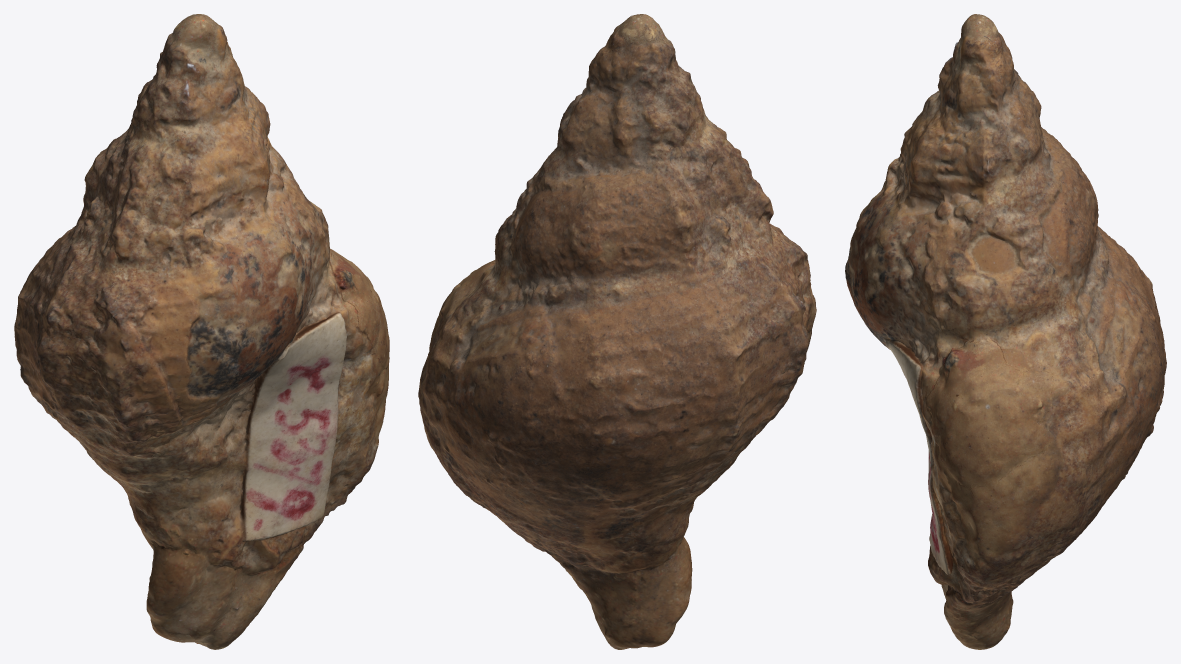
File: EWS0012664.glb
3 renders of one model, left to right at view 1: azimuth 30°, elevation 25°; view 2: azimuth 150°, elevation 25°; view 3: azimuth 270°, elevation 25°, orthographic. The views are drawn at different scales.
Parts seen in each view (by area): view 1: input; view 2: input; view 3: input.
Part boxes in pixels (bbox=[...]): input: bbox=[14, 14, 389, 649]; input: bbox=[418, 14, 816, 649]; input: bbox=[845, 14, 1166, 649].
Bounding box in the file's own units: 0.0177 × 0.0302 × 0.0141.
Materials: 1 (1 with a texture image).
